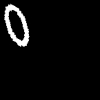chain: (5, 5, 28, 45)
